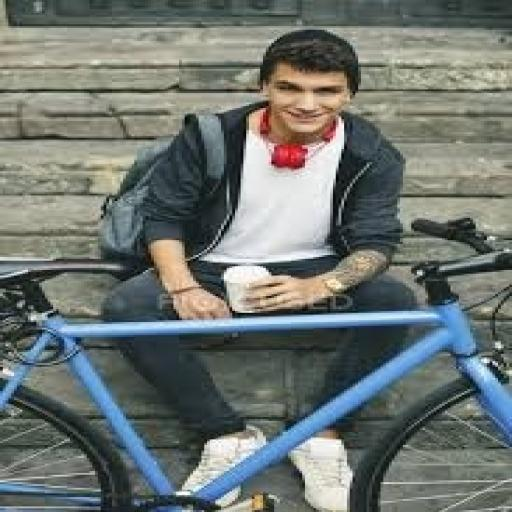sitting: (95, 26, 423, 510)
